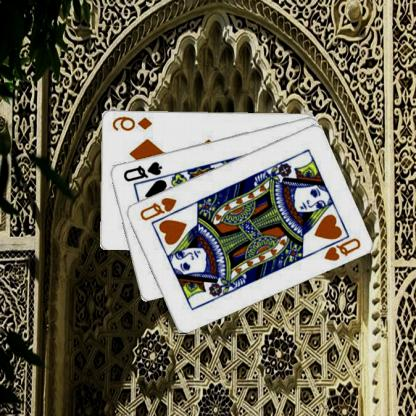6D: (111, 114, 155, 132)
QH: (314, 232, 364, 262), (138, 194, 180, 222)
QS: (122, 158, 165, 182)
